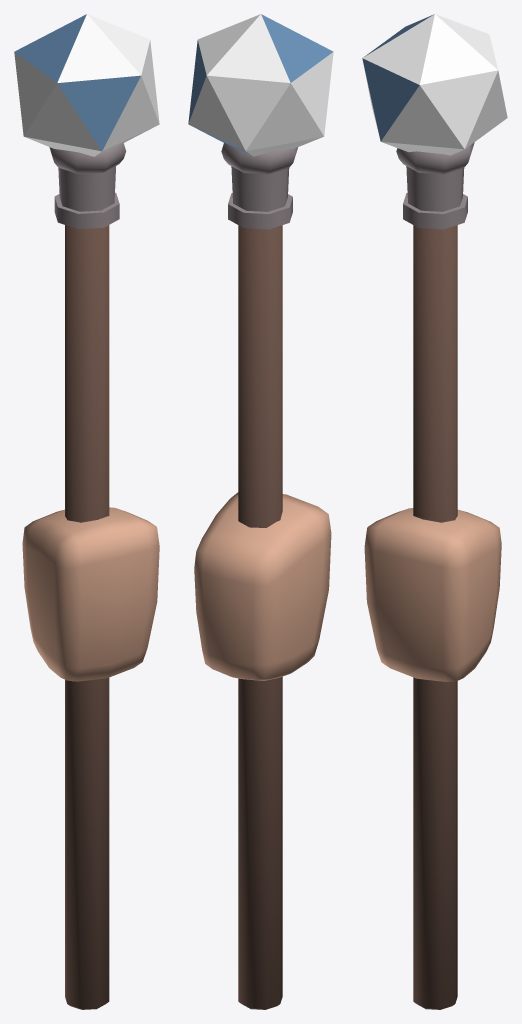
The model's file is magePawn_icestaff1.fbx.
The picture shows the model from 3 angles, left to right: view 1: azimuth 30°, elevation 25°; view 2: azimuth 150°, elevation 25°; view 3: azimuth 330°, elevation 25°; orthographic projection.
Parts seen in each view (by area): view 1: wizIceStaff; view 2: wizIceStaff; view 3: wizIceStaff.
Boxes of the visible parts, bbox=[...] form: wizIceStaff: bbox=[14, 14, 159, 1009]; wizIceStaff: bbox=[188, 14, 333, 1009]; wizIceStaff: bbox=[362, 14, 507, 1009].
Bounding box in the file's own units: 43.5 × 324 × 41.37.
